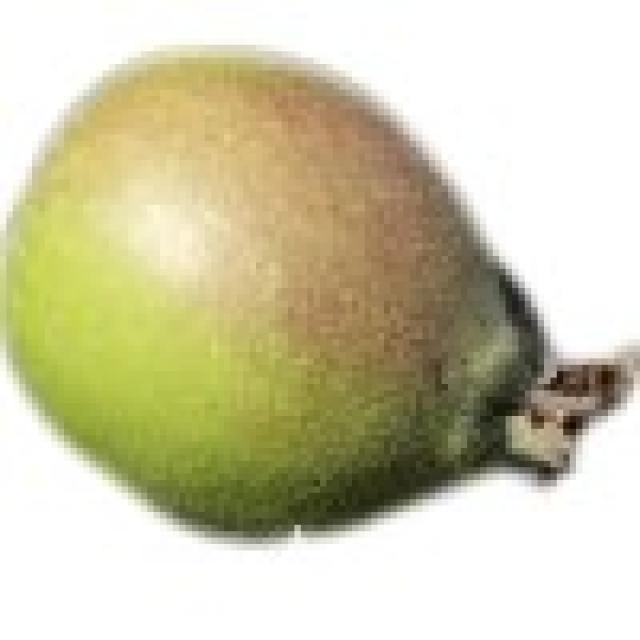20-_ripeness: (9, 48, 624, 550)
